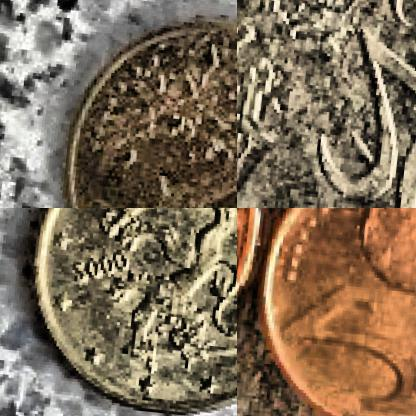coin: (18, 208, 236, 415), (46, 2, 236, 207), (237, 0, 415, 207), (248, 208, 415, 415)
